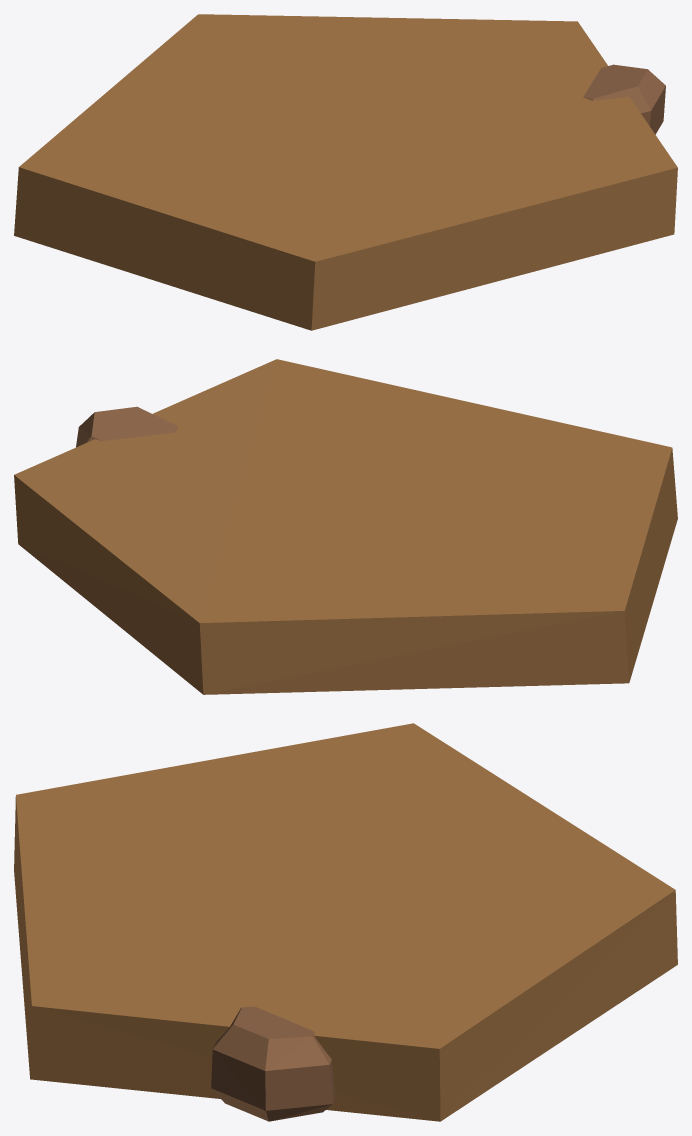
The model's file is prop_path_slab_b.glb.
3 views of the same model, one above another, from view 1: azimuth 30°, elevation 25°; view 2: azimuth 150°, elevation 25°; view 3: azimuth 270°, elevation 25° (orthographic). The views are drawn at different scales.
Visible parts, largest first — view 1: prop_path_slab_b_cluster_material_00; view 2: prop_path_slab_b_cluster_material_00; view 3: prop_path_slab_b_cluster_material_00.
Boxes of the visible parts, box(x1,y1,x2,y2) form: prop_path_slab_b_cluster_material_00: box(14, 14, 677, 330); prop_path_slab_b_cluster_material_00: box(14, 359, 677, 694); prop_path_slab_b_cluster_material_00: box(14, 723, 677, 1121).
Size of the model in its own units: 0.4668 by 0.0555 by 0.3921.
